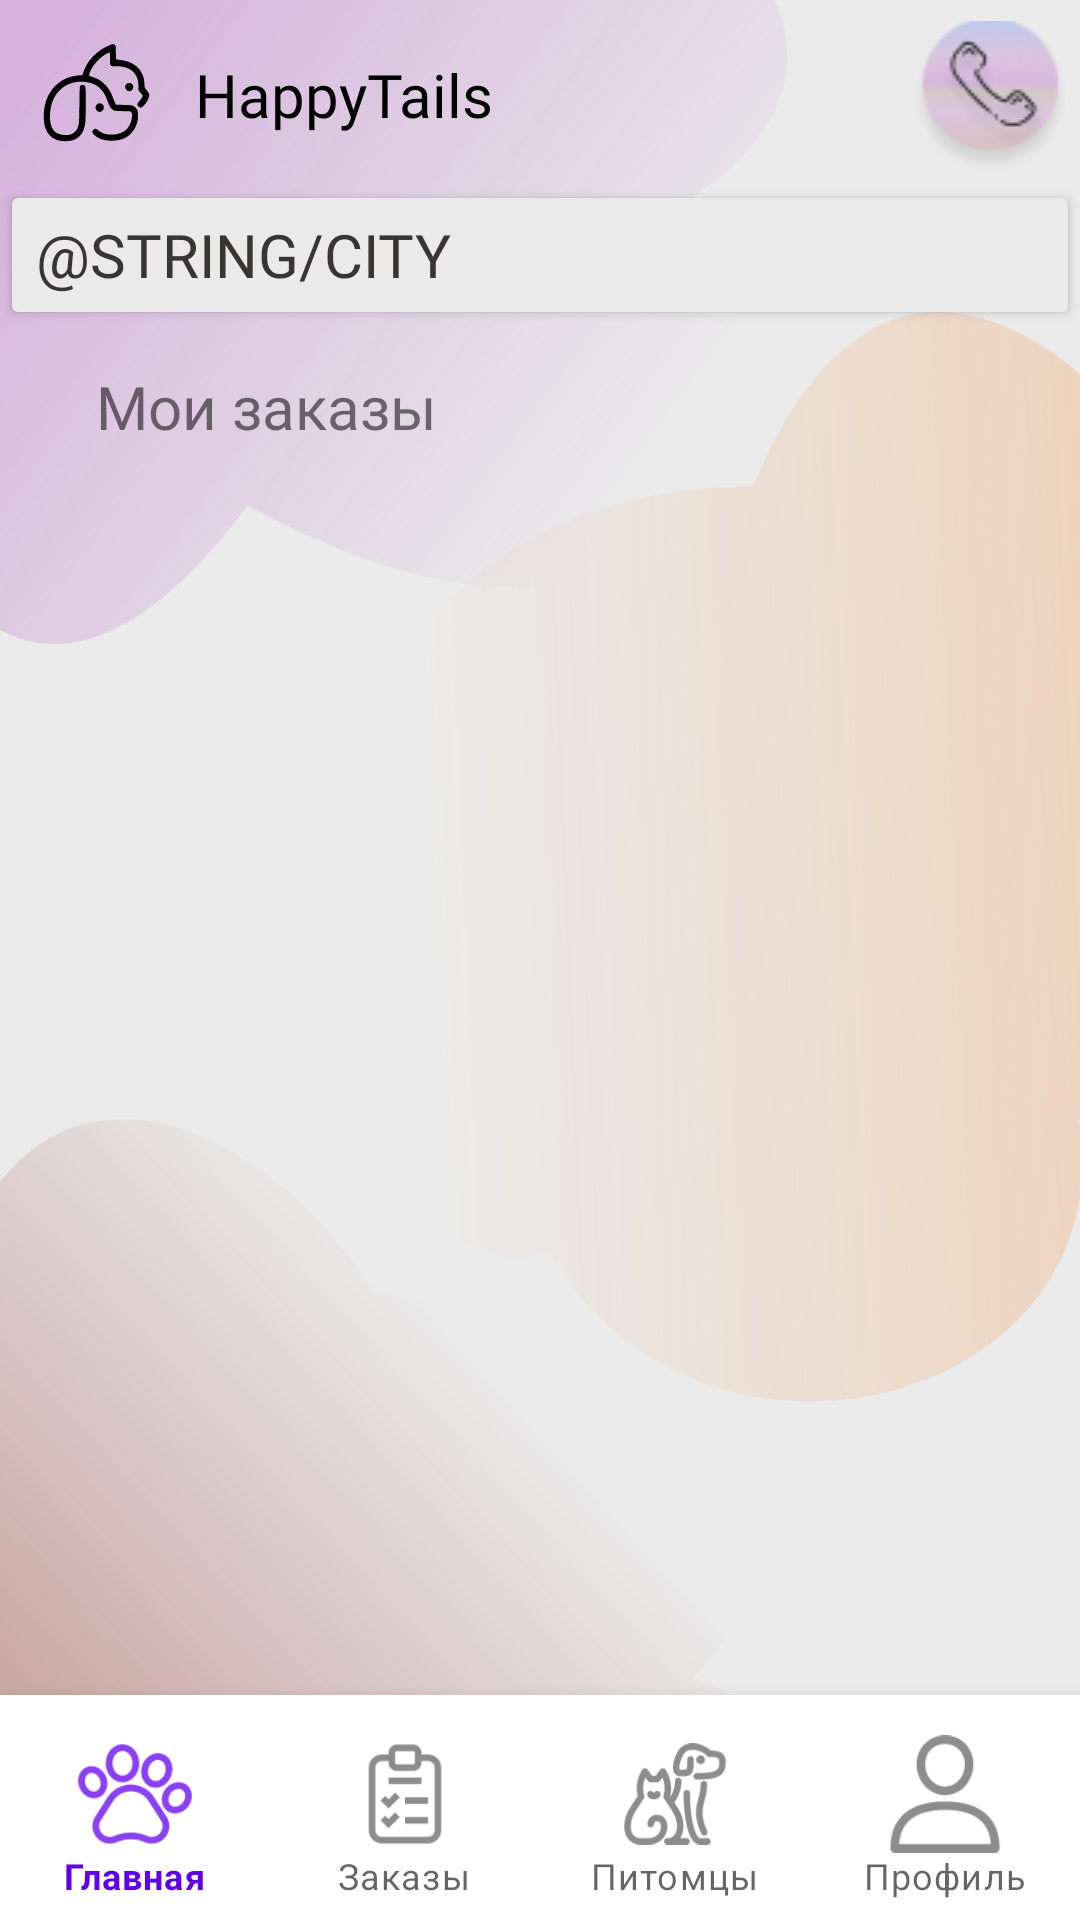

Icon click points for this 1080px x 1920px phone screenshot, format point (x, y):
phone: point (990, 86)
